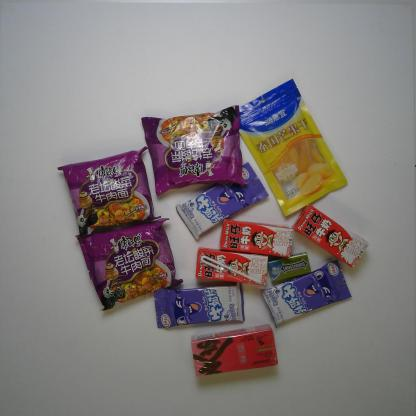Candy: (175, 162, 269, 240), (258, 260, 353, 329), (153, 282, 246, 329)
Dried Fruit: (237, 78, 347, 218)
Gum: (268, 252, 312, 281)
Instant Drink: (190, 324, 279, 378)
Instant Noodles: (73, 216, 185, 313), (139, 104, 249, 197), (57, 146, 164, 237)
Milk: (291, 205, 370, 269), (219, 218, 295, 259), (194, 247, 269, 288)
